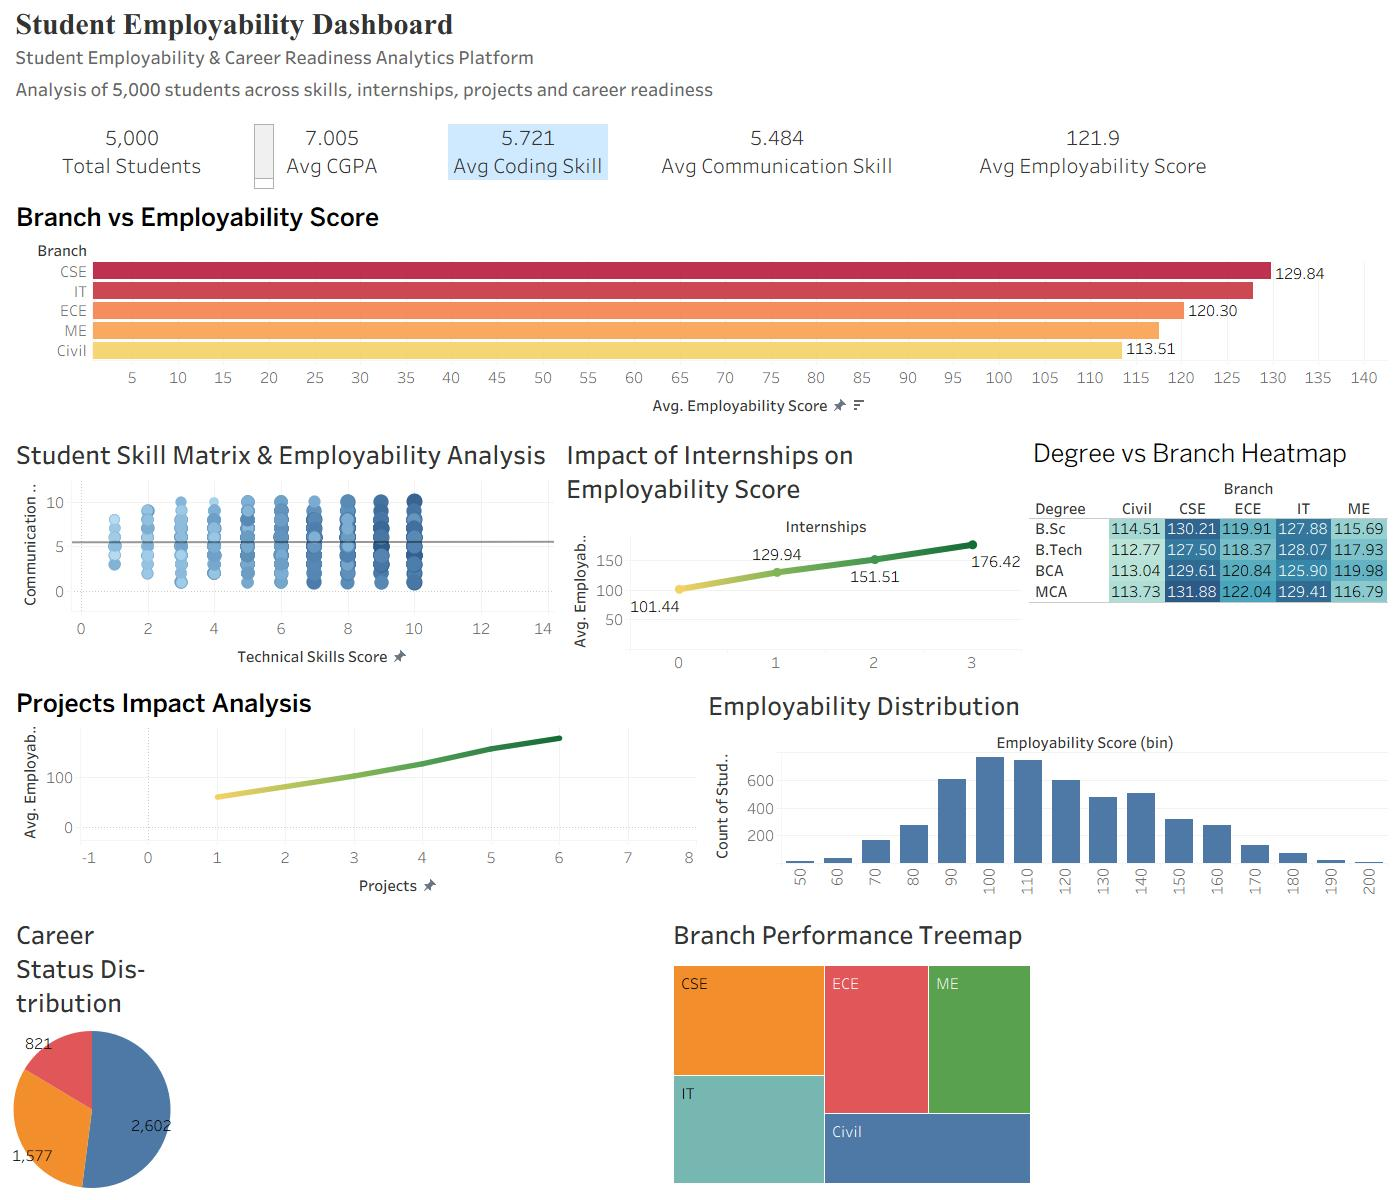

This screenshot's page, from the dashboard's own definition file:
{"tool":"tableau","page":{"name":"Dashboard 1","canvas":[1400,1200],"ordinal":0},"visuals":[{"type":"title","box":[8,8,1384,32]},{"type":"text","box":[8,40,1384,33]},{"type":"text","box":[8,73,1384,32]},{"type":"worksheet","title":"Sheet 1","mark":"Automatic","box":[8,105,270,87]},{"type":"worksheet","title":"Sheet 2","mark":"Automatic","box":[278,105,166,87]},{"type":"worksheet","title":"Sheet 3","mark":"Automatic","box":[444,105,209,87]},{"type":"worksheet","title":"Sheet 4","mark":"Automatic","box":[653,105,316,87]},{"type":"worksheet","title":"Sheet 5","mark":"Automatic","box":[969,105,248,87]},{"type":"worksheet","title":"Sheet 6","mark":"Automatic","rows":["Branch"],"cols":["Employability_Score"],"box":[8,192,1384,235]},{"type":"worksheet","title":"Sheet 7","mark":"Circle","rows":["Communication_Skills"],"cols":["Coding_Skills"],"box":[8,427,550,251]},{"type":"worksheet","title":"Sheet 9","mark":"Line","rows":["Employability_Score"],"cols":["Internships"],"box":[558,427,467,251]},{"type":"worksheet","title":"Sheet 8","mark":"Square","rows":["Degree"],"cols":["Branch"],"box":[1025,427,367,251]},{"type":"worksheet","title":"Sheet 10","mark":"Line","rows":["Employability_Score"],"cols":["Projects"],"box":[8,678,692,229]},{"type":"worksheet","title":"Sheet 11","mark":"Automatic","rows":["Student_ID"],"cols":["Employability Score (bin)"],"box":[700,678,692,229]},{"type":"worksheet","title":"Sheet 13","mark":"Pie","box":[8,907,657,285]},{"type":"worksheet","title":"Sheet 12","mark":"Automatic","box":[665,907,574,285]}]}

Visuals, with their boxes in screenshot pixels (x1, y1, x2, y2), scaled from the page's 1400x1200 canvas onto the 1400x1200 screenshot:
title: select_region(8, 8, 1392, 40)
text: select_region(8, 40, 1392, 73)
text: select_region(8, 73, 1392, 105)
"Sheet 1" worksheet: select_region(8, 105, 278, 192)
"Sheet 2" worksheet: select_region(278, 105, 444, 192)
"Sheet 3" worksheet: select_region(444, 105, 653, 192)
"Sheet 4" worksheet: select_region(653, 105, 969, 192)
"Sheet 5" worksheet: select_region(969, 105, 1217, 192)
"Sheet 6" worksheet: select_region(8, 192, 1392, 427)
"Sheet 7" worksheet (Circle marks): select_region(8, 427, 558, 678)
"Sheet 9" worksheet (Line marks): select_region(558, 427, 1025, 678)
"Sheet 8" worksheet (Square marks): select_region(1025, 427, 1392, 678)
"Sheet 10" worksheet (Line marks): select_region(8, 678, 700, 907)
"Sheet 11" worksheet: select_region(700, 678, 1392, 907)
"Sheet 13" worksheet (Pie marks): select_region(8, 907, 665, 1192)
"Sheet 12" worksheet: select_region(665, 907, 1239, 1192)
